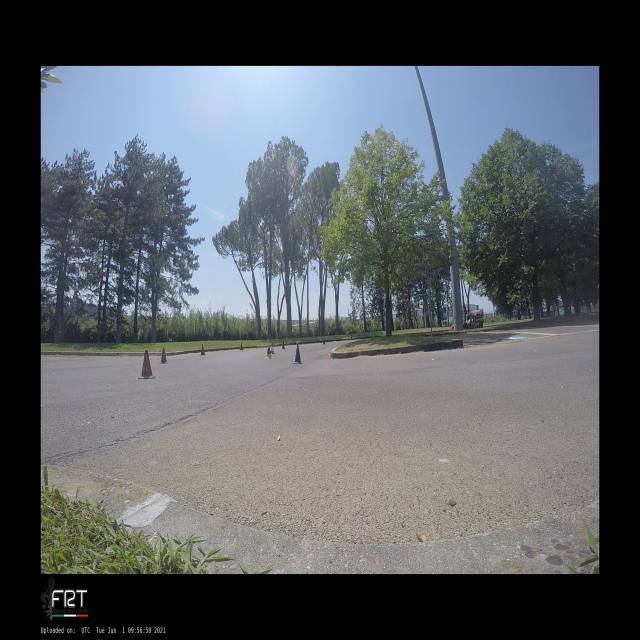orange_cone: (270, 343, 275, 354)
unknown_cone: (138, 350, 156, 378), (292, 344, 304, 364), (158, 348, 170, 363), (199, 344, 207, 355), (281, 341, 286, 349), (239, 343, 244, 350), (322, 337, 326, 345), (296, 339, 298, 345), (350, 335, 352, 340)
yellow_cone: (265, 344, 273, 359)
